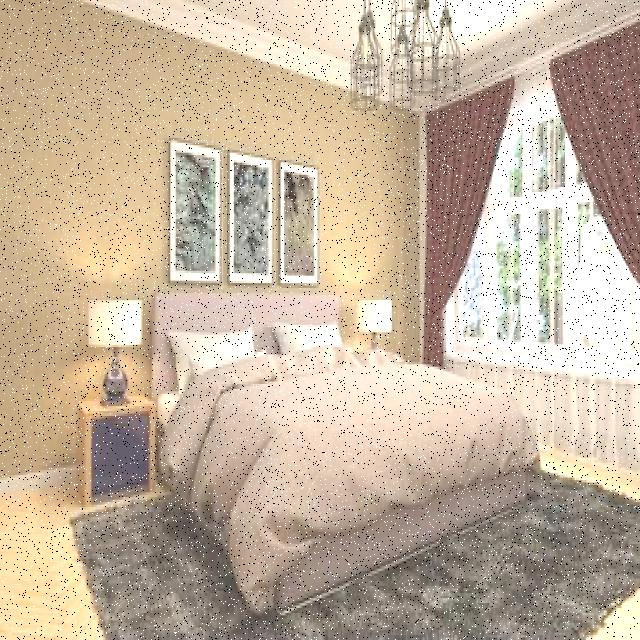bed: (151, 285, 523, 565)
